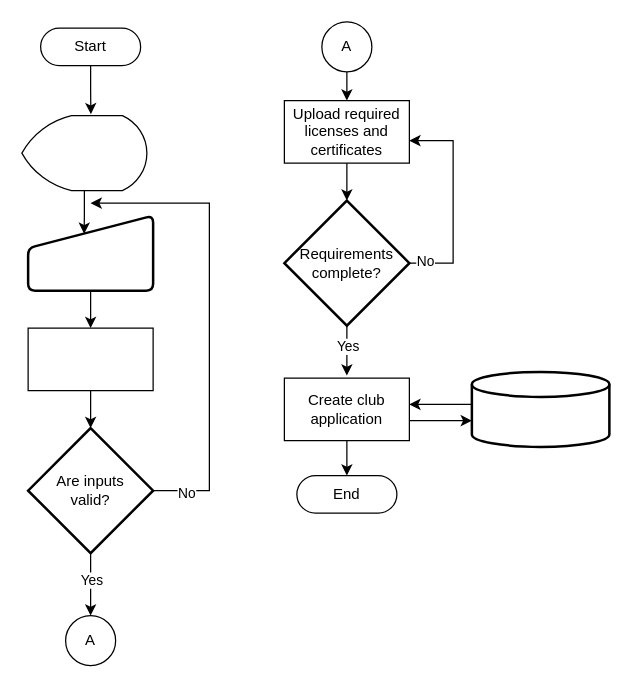
This 633x688 diagram has some shape labels left out. The box of each missing label's shape, as (x1, y1, x2, y2) in pixels:
Clean inputs: (27, 327, 153, 391)
Input club information: (26, 214, 154, 291)
public. club_applications: (470, 370, 610, 448)
Register Club: (21, 114, 147, 191)
